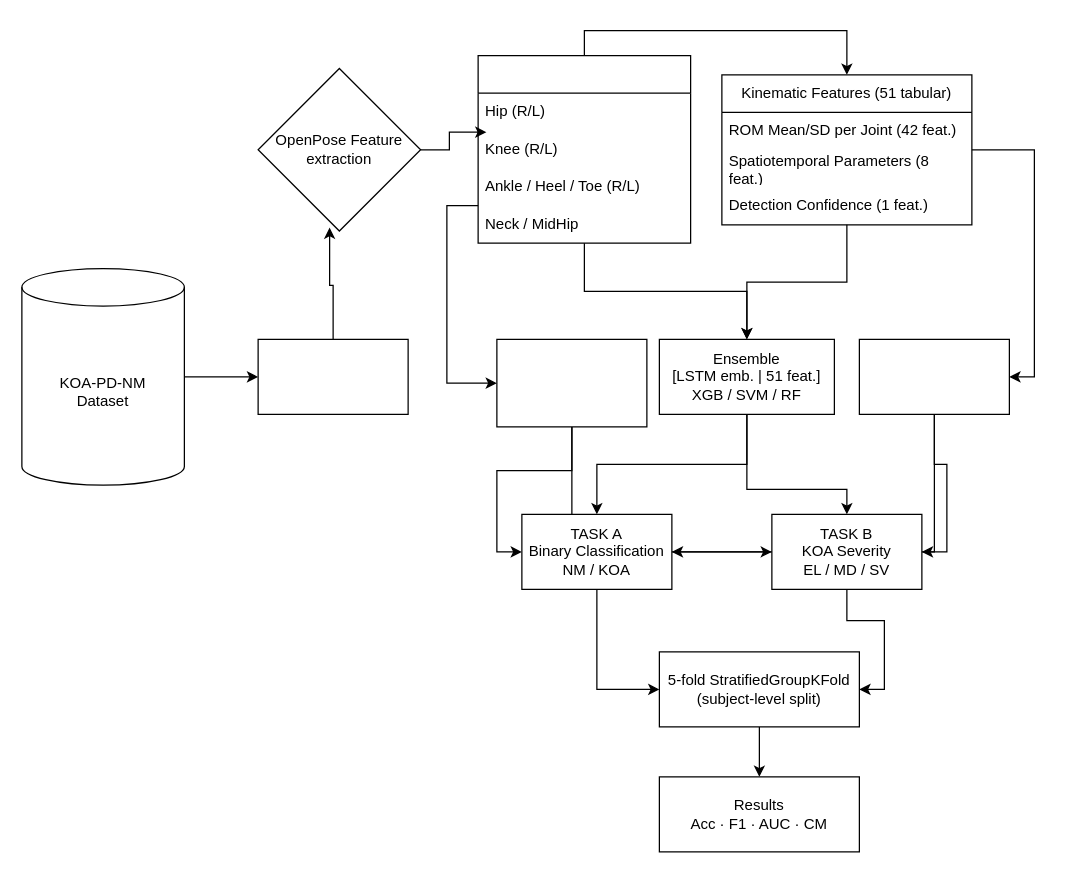
Image size: 1066x874. Some labels were removed from this diagram. Each missing label, with the box of its shape:
Deep Learning LSTM Bi-LSTM (4 × 101 seq.): (496, 338, 647, 427)
Joint Points (12 keypoints): (477, 54, 691, 243)
PD Individuals Removed: (257, 338, 408, 414)
Tabular XGB SVM Random Forest: (858, 338, 1009, 414)
